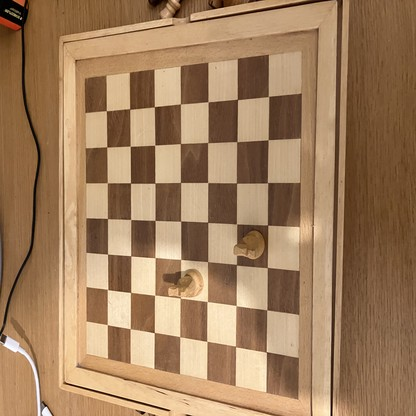knight_white: (168, 270, 204, 297), (234, 231, 265, 261)
